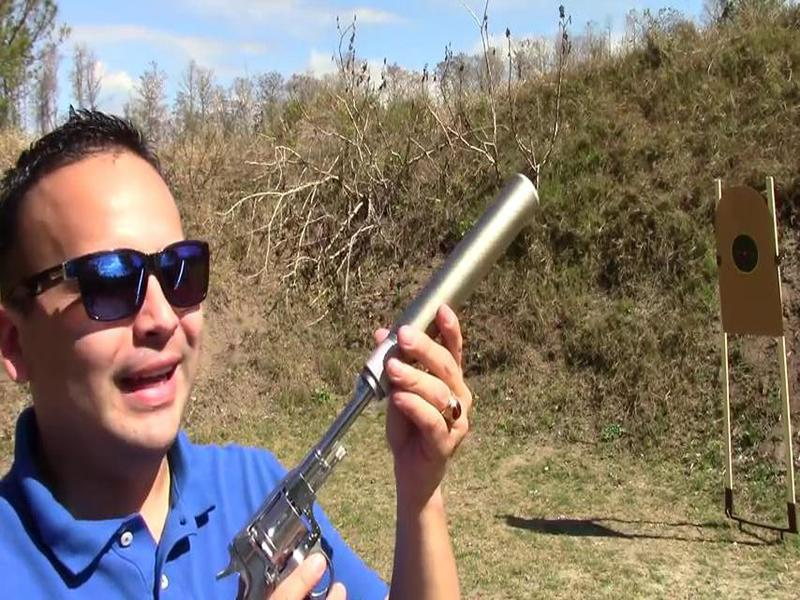Revolver: (213, 375, 387, 600)
